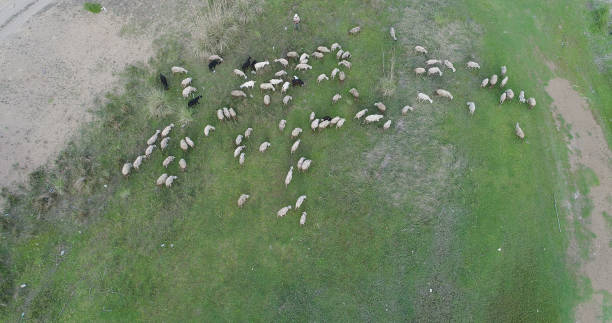sheep: (513, 121, 528, 141), (300, 206, 313, 227), (435, 88, 457, 100), (418, 92, 434, 107), (293, 138, 306, 155), (444, 58, 456, 74), (389, 27, 400, 44), (295, 193, 306, 210), (303, 158, 314, 175), (505, 87, 518, 101), (346, 87, 361, 99), (414, 67, 430, 78), (335, 58, 351, 69), (426, 57, 443, 67), (428, 68, 445, 78), (354, 107, 368, 119), (330, 116, 344, 128), (364, 114, 382, 123), (466, 61, 482, 71), (414, 44, 427, 56), (292, 14, 304, 27), (465, 101, 476, 115), (295, 63, 310, 73), (310, 118, 321, 131), (293, 126, 307, 136), (311, 50, 325, 60), (384, 118, 395, 130), (333, 90, 344, 102), (518, 90, 528, 103), (489, 75, 499, 88), (501, 92, 510, 106), (375, 102, 389, 111), (403, 105, 414, 116), (332, 68, 343, 79), (300, 51, 310, 63), (319, 121, 332, 130), (316, 73, 329, 82), (500, 76, 511, 86), (527, 96, 535, 109), (481, 78, 491, 88), (500, 64, 509, 75), (349, 28, 362, 34), (314, 46, 327, 52), (330, 43, 342, 49)
